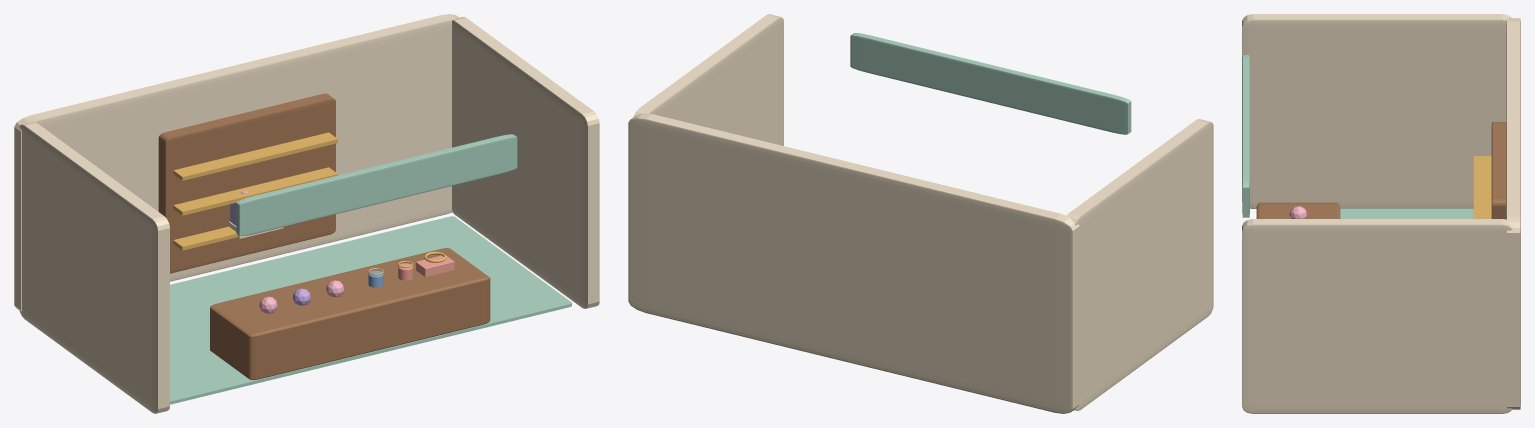
The model's file is maker_meadow.glb.
The picture shows the model from 3 angles, left to right: view 1: azimuth 30°, elevation 25°; view 2: azimuth 150°, elevation 25°; view 3: azimuth 270°, elevation 25°; orthographic projection. The views are drawn at different scales.
Visible parts, largest first — view 1: maker_meadow_back, maker_meadow_left, maker_meadow_right, maker_table, maker_meadow_floor, maker_panel, maker_meadow_sign, maker_shelf_3.0, maker_shelf_2.1, maker_shelf_1.2, Toolbox; view 2: maker_meadow_back, maker_meadow_left, maker_meadow_sign, maker_meadow_right; view 3: maker_meadow_right, maker_meadow_left, maker_meadow_back, maker_panel, maker_meadow_floor, maker_meadow_sign, maker_table, maker_shelf_3.0.
Part boxes in pixels (bbox=[...]): maker_meadow_back: bbox=[14, 14, 458, 311]; maker_meadow_left: bbox=[19, 122, 169, 413]; maker_meadow_right: bbox=[452, 17, 599, 308]; maker_table: bbox=[210, 248, 490, 379]; maker_meadow_floor: bbox=[170, 216, 571, 404]; maker_panel: bbox=[158, 93, 335, 273]; maker_meadow_sign: bbox=[236, 134, 517, 235]; maker_shelf_3.0: bbox=[173, 132, 337, 180]; maker_shelf_2.1: bbox=[173, 167, 337, 215]; maker_shelf_1.2: bbox=[173, 226, 237, 250]; Toolbox: bbox=[416, 255, 454, 276]; maker_meadow_back: bbox=[628, 113, 1079, 413]; maker_meadow_left: bbox=[1067, 119, 1213, 410]; maker_meadow_sign: bbox=[850, 33, 1131, 134]; maker_meadow_right: bbox=[633, 14, 783, 145]; maker_meadow_right: bbox=[1242, 219, 1512, 413]; maker_meadow_left: bbox=[1242, 14, 1511, 208]; maker_meadow_back: bbox=[1506, 18, 1520, 409]; maker_panel: bbox=[1491, 122, 1506, 219]; maker_meadow_floor: bbox=[1340, 208, 1473, 218]; maker_meadow_sign: bbox=[1242, 55, 1249, 217]; maker_table: bbox=[1256, 202, 1340, 218]; maker_shelf_3.0: bbox=[1473, 156, 1491, 218].
Bounding box in the file's own units: 12 × 5 × 6.67.
